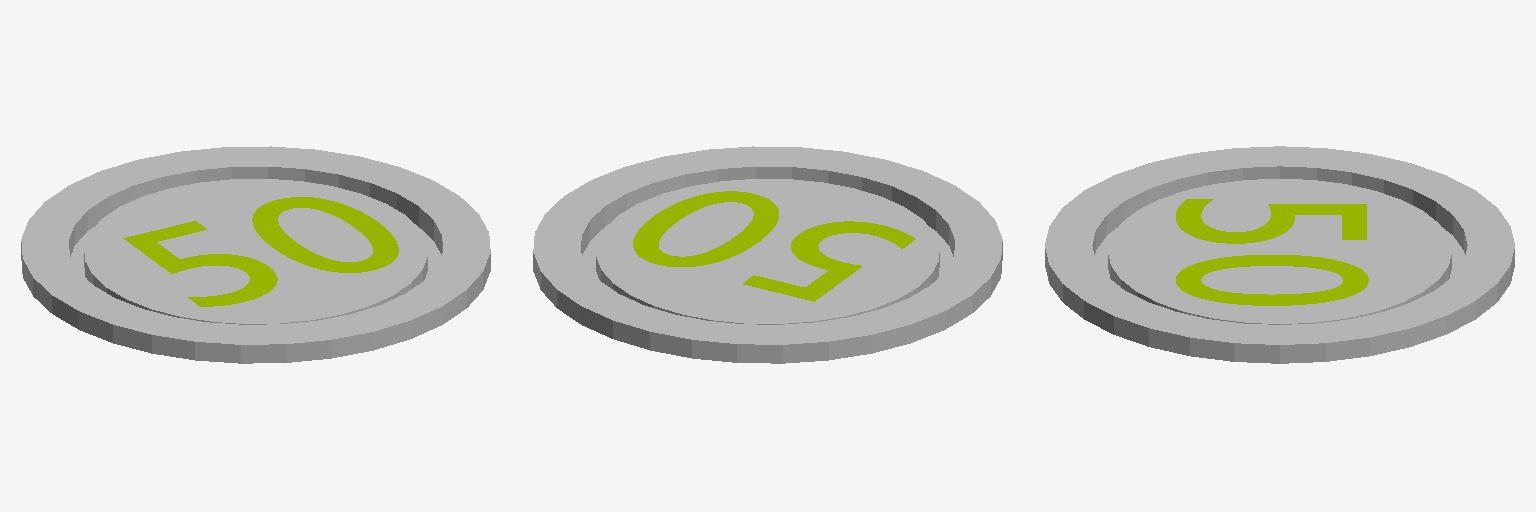
The picture shows the model from 3 angles: view 1: azimuth 30°, elevation 25°; view 2: azimuth 150°, elevation 25°; view 3: azimuth 270°, elevation 25°; orthographic projection.
Visible parts, largest first — view 1: Cylinder, tekst; view 2: Cylinder, tekst; view 3: Cylinder, tekst.
Part boxes in pixels (x1,y1,x2,y2): Cylinder: (21, 146, 490, 363); tekst: (123, 197, 398, 306); Cylinder: (533, 146, 1002, 363); tekst: (633, 191, 915, 301); Cylinder: (1045, 146, 1514, 363); tekst: (1176, 199, 1368, 305).
Size of the model in its own units: 1.33 by 0.0642 by 1.33.